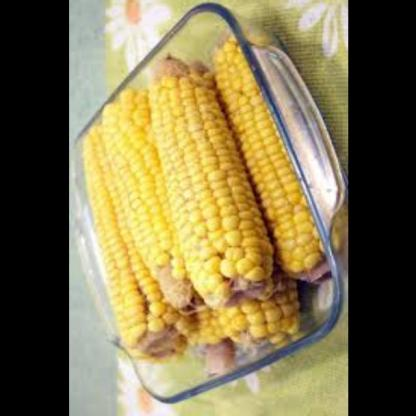corn: (135, 53, 277, 310), (206, 40, 332, 286), (68, 122, 187, 358), (94, 93, 207, 315), (182, 287, 301, 364)
